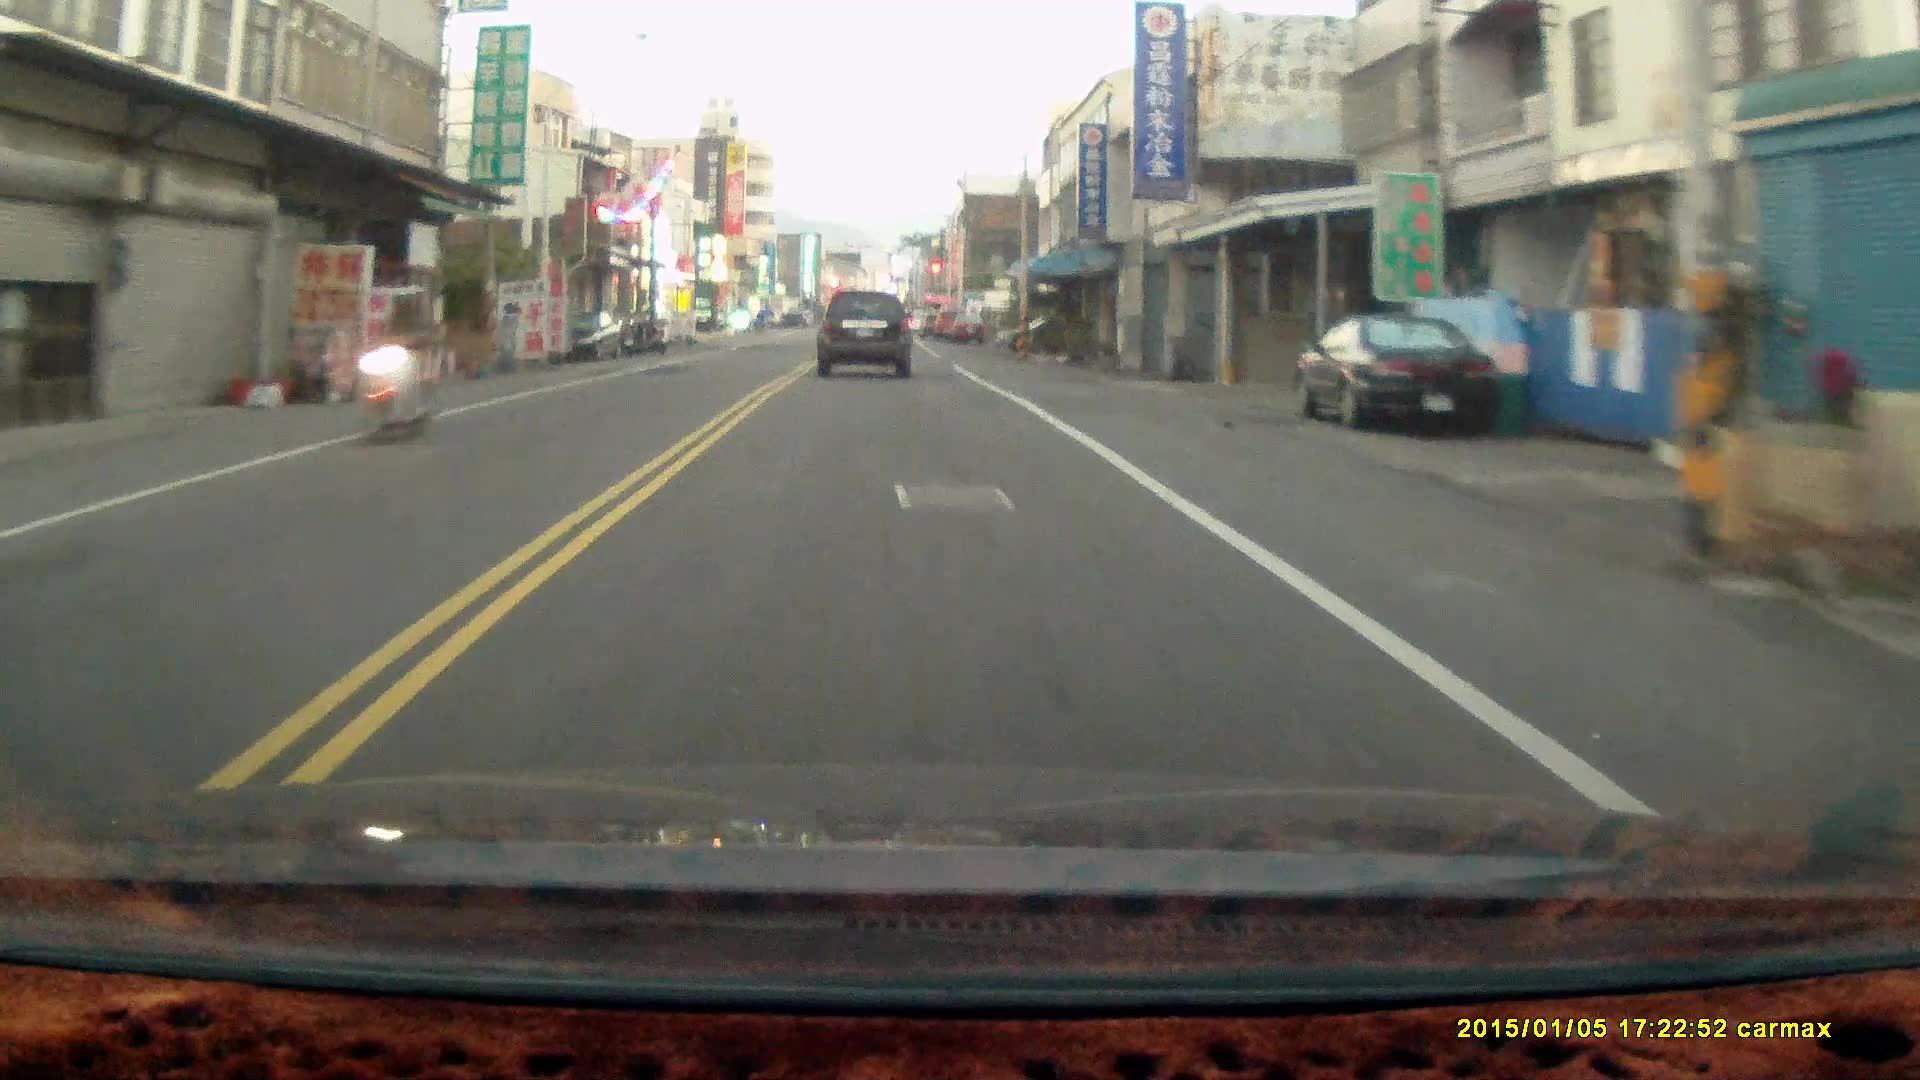rider: (346, 285, 431, 445)
vehicle: (1298, 310, 1510, 436), (817, 290, 914, 381)
